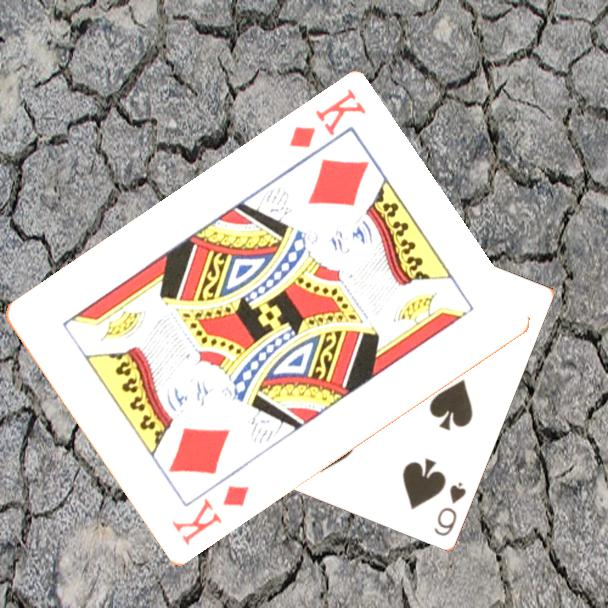d13: (168, 482, 253, 550), (285, 85, 369, 152)
s06: (430, 478, 469, 539)
